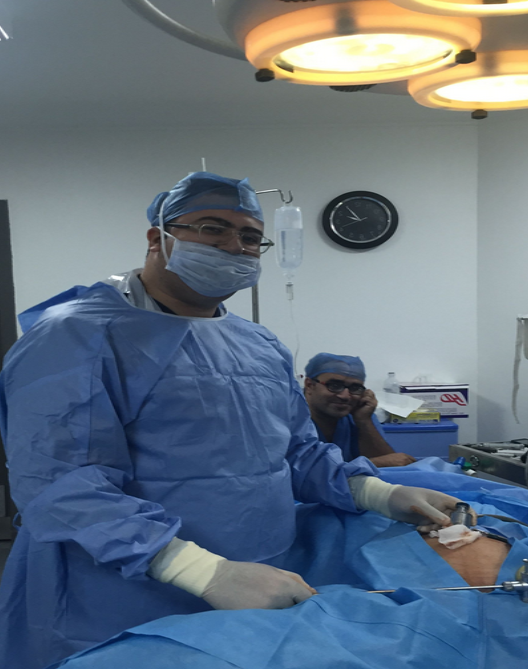mask_weared_incorrect: (145, 176, 281, 302)
